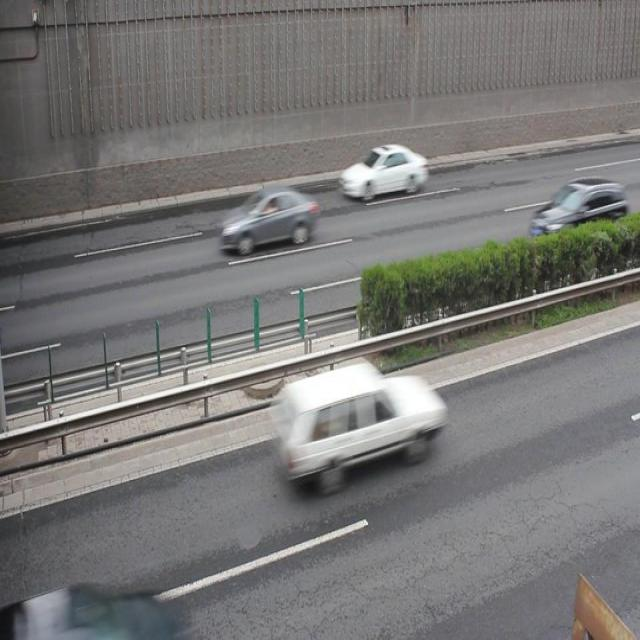car: (272, 361, 442, 491), (528, 177, 624, 245), (220, 186, 314, 251), (340, 144, 428, 200)
